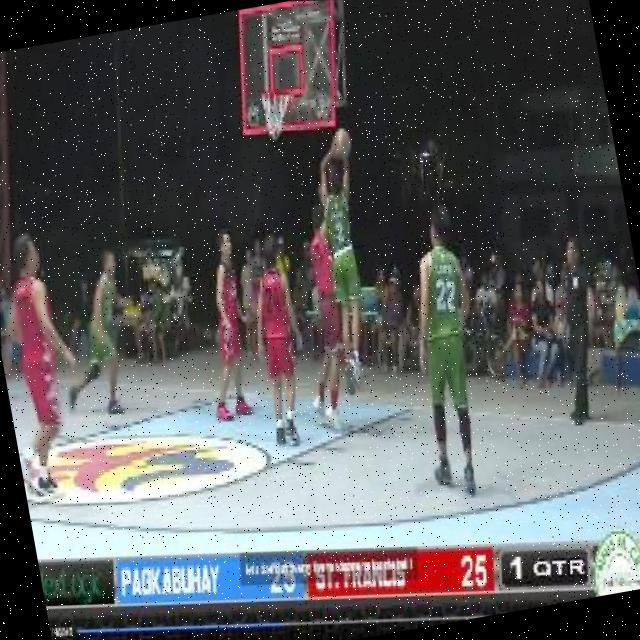ball: (326, 124, 358, 164)
hoop: (255, 85, 292, 102)
